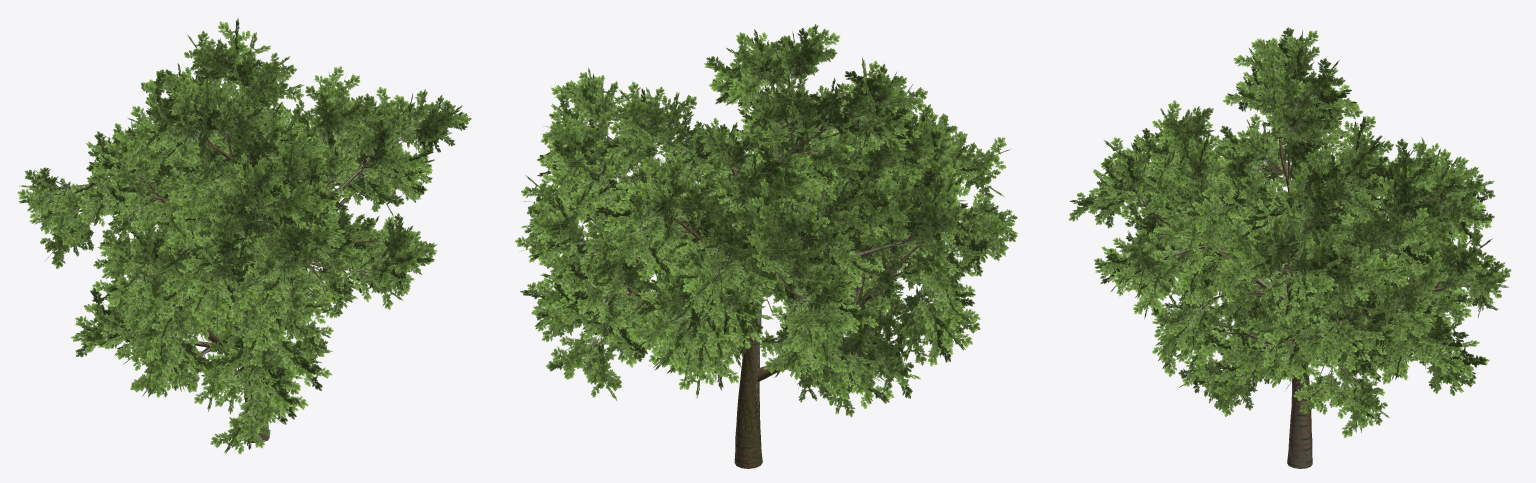
3 views of the same model, side by side, from view 1: azimuth 30°, elevation 25°; view 2: azimuth 150°, elevation 25°; view 3: azimuth 270°, elevation 25° (orthographic). The views are drawn at different scales.
Parts seen in each view (by area): view 1: Tree_EZTree1Large009_leaves009_0, Tree_EZTree1Large009_branches009_0; view 2: Tree_EZTree1Large009_leaves009_0, Tree_EZTree1Large009_branches009_0; view 3: Tree_EZTree1Large009_leaves009_0, Tree_EZTree1Large009_branches009_0.
Boxes of the visible parts, x1,y1,x2,y2 form: Tree_EZTree1Large009_leaves009_0: (17,18,471,454); Tree_EZTree1Large009_branches009_0: (57,91,415,442); Tree_EZTree1Large009_leaves009_0: (515,24,1017,417); Tree_EZTree1Large009_branches009_0: (569,84,962,468); Tree_EZTree1Large009_leaves009_0: (1068,27,1511,438); Tree_EZTree1Large009_branches009_0: (1135,106,1470,468).
Size of the model in its own units: 108 by 107 by 108.
2 materials, 2 textured.
